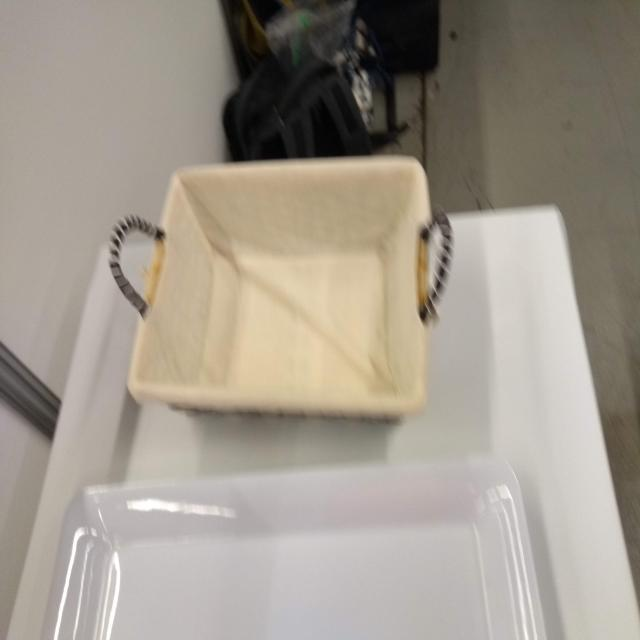basket: (107, 158, 456, 425)
tray: (37, 451, 549, 640)
